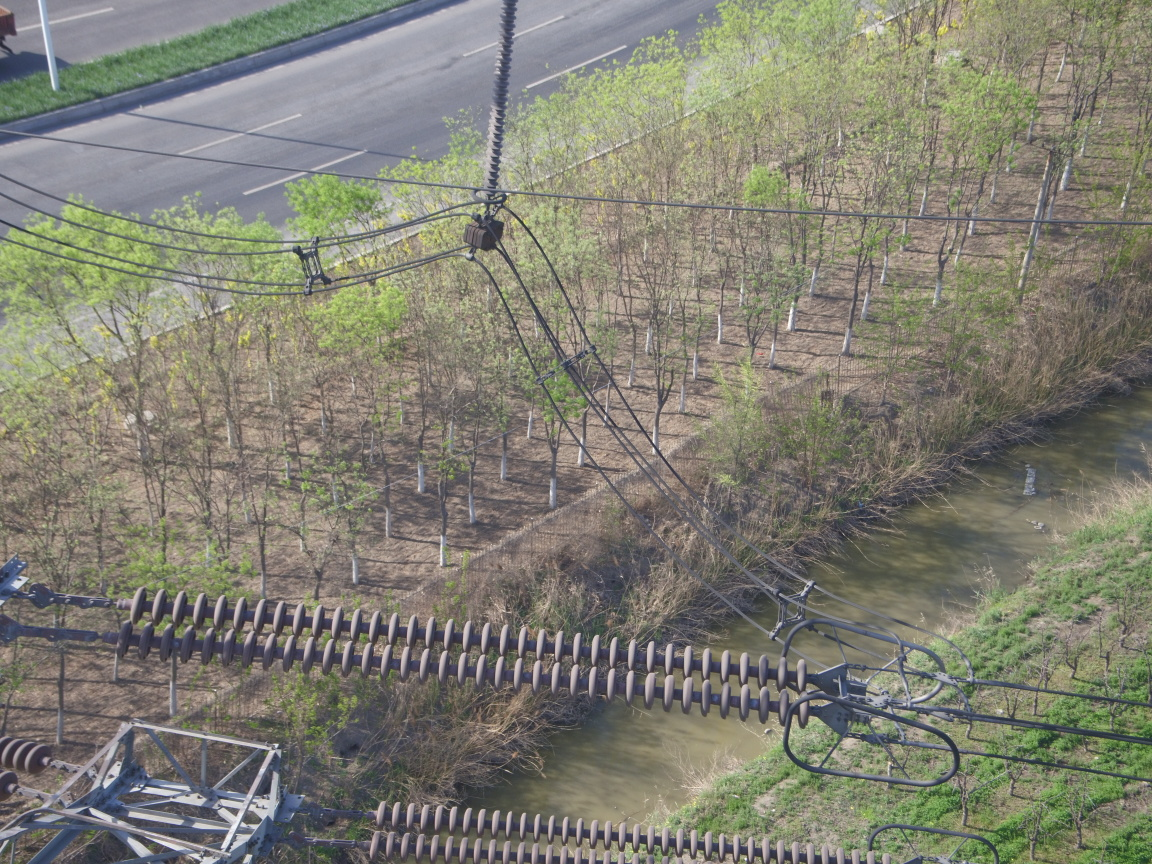insulator: (62, 584, 829, 732), (333, 796, 911, 863)
